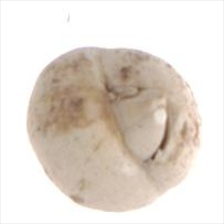L3: (103, 76, 175, 170)
L4: (27, 47, 202, 213)
